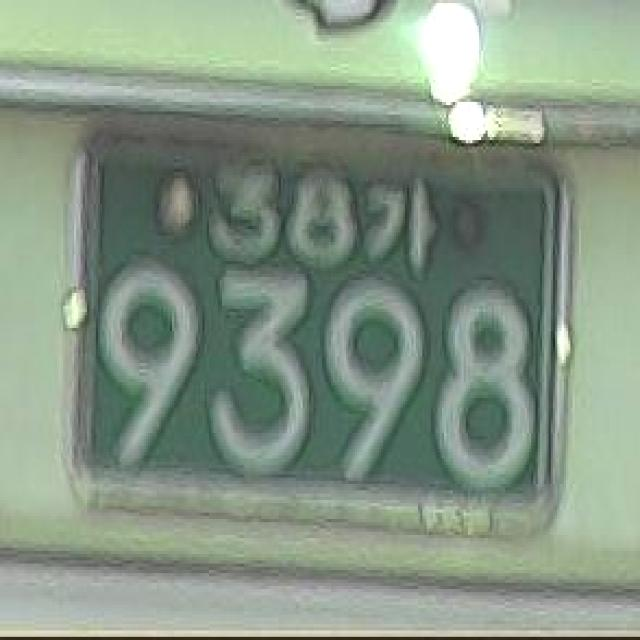illegal_plate: (33, 91, 593, 581)
